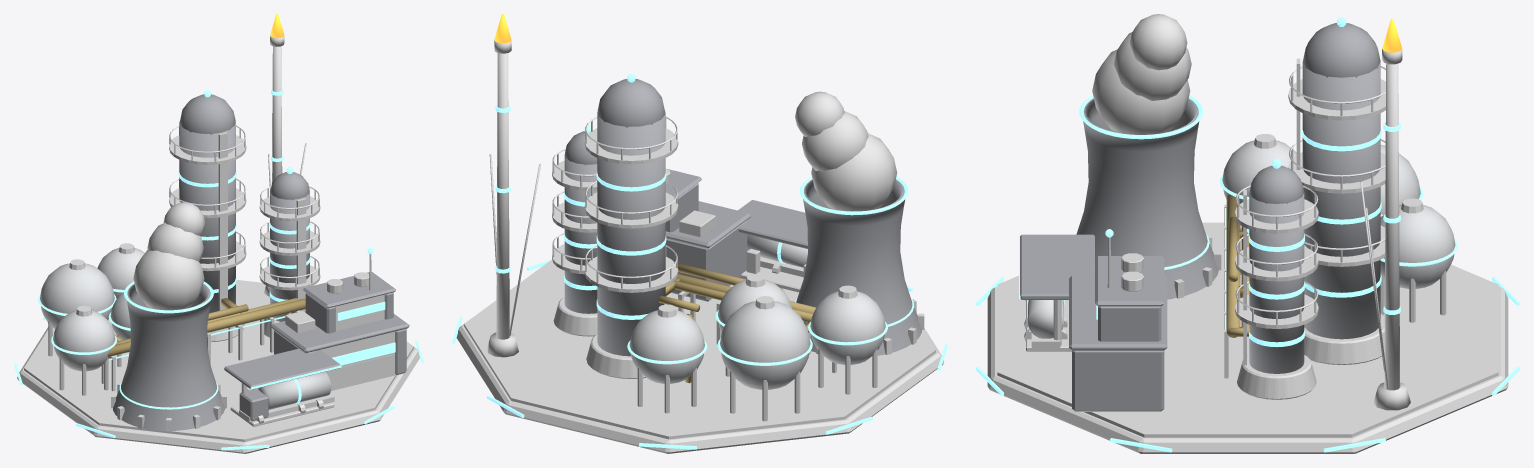
File: sb_raffinerie_t2.glb
The picture shows the model from 3 angles, left to right: view 1: azimuth 30°, elevation 25°; view 2: azimuth 150°, elevation 25°; view 3: azimuth 270°, elevation 25°; orthographic projection. The views are drawn at different scales.
Parts seen in each view (by area): view 1: SM_RF_PLINTH_TOP, SM_RF_COOL, SM_RF_COL_SHAFT, SM_RF_STEAM, SM_RF_BLOCK, SM_RF_PLINTH, SM_RF_GLOW, SM_RF_TANK_A, SM_RF_COL2_SHAFT, SM_RF_BLOCK_CORE, SM_RF_TANK_C, SM_RF_PUMP_CANOPY (+19 smaller); view 2: SM_RF_PLINTH_TOP, SM_RF_COL_SHAFT, SM_RF_COOL, SM_RF_STEAM, SM_RF_PLINTH, SM_RF_TANK_A, SM_RF_BLOCK, SM_RF_GLOW, SM_RF_FLARE, SM_RF_TANK_C, SM_RF_TANK_B, SM_RF_COL2_SHAFT (+16 smaller); view 3: SM_RF_PLINTH_TOP, SM_RF_COL_SHAFT, SM_RF_COOL, SM_RF_BLOCK, SM_RF_PLINTH, SM_RF_STEAM, SM_RF_COL2_SHAFT, SM_RF_GLOW, SM_RF_FLARE, SM_RF_PUMP_CANOPY, SM_RF_TANK_B, SM_RF_COL2_PLATFORMS (+16 smaller).
Boxes of the visible parts, x1,y1,x2,y2 form: SM_RF_PLINTH_TOP: (24, 280, 413, 441); SM_RF_COOL: (113, 283, 225, 430); SM_RF_COL_SHAFT: (179, 94, 235, 313); SM_RF_STEAM: (133, 202, 205, 310); SM_RF_BLOCK: (271, 272, 409, 374); SM_RF_PLINTH: (17, 327, 419, 453); SM_RF_GLOW: (14, 88, 423, 450); SM_RF_TANK_A: (40, 263, 114, 328); SM_RF_COL2_SHAFT: (270, 172, 309, 321); SM_RF_BLOCK_CORE: (317, 294, 405, 390); SM_RF_TANK_C: (53, 310, 115, 371); SM_RF_PUMP_CANOPY: (224, 348, 340, 389); SM_RF_PLINTH_TOP: (464, 259, 935, 439); SM_RF_COL_SHAFT: (597, 79, 665, 356); SM_RF_COOL: (796, 179, 921, 356); SM_RF_STEAM: (795, 91, 897, 211); SM_RF_PLINTH: (456, 324, 944, 453); SM_RF_TANK_A: (720, 301, 810, 389); SM_RF_BLOCK: (665, 169, 750, 301); SM_RF_GLOW: (452, 73, 947, 449); SM_RF_FLARE: (487, 53, 518, 357); SM_RF_TANK_C: (810, 291, 885, 364); SM_RF_TANK_B: (629, 310, 704, 383); SM_RF_COL2_SHAFT: (564, 131, 597, 313); SM_RF_PLINTH_TOP: (997, 222, 1498, 437); SM_RF_COL_SHAFT: (1302, 23, 1380, 339); SM_RF_COOL: (1076, 98, 1218, 299); SM_RF_BLOCK: (1069, 256, 1167, 410); SM_RF_PLINTH: (987, 287, 1508, 453); SM_RF_STEAM: (1092, 14, 1191, 134); SM_RF_COL2_SHAFT: (1249, 165, 1304, 373); SM_RF_GLOW: (976, 17, 1519, 452); SM_RF_FLARE: (1373, 63, 1410, 410); SM_RF_PUMP_CANOPY: (1020, 234, 1094, 299); SM_RF_TANK_B: (1380, 205, 1455, 288); SM_RF_COL2_PLATFORMS: (1235, 199, 1318, 328).
Size of the model in its own units: 37.7 by 30.55 by 37.7.
